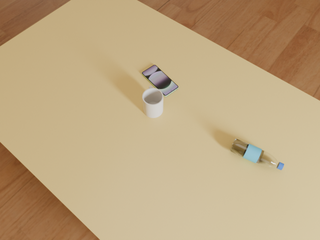bottle: (230, 138, 284, 170)
cup: (142, 86, 163, 118)
phone: (142, 65, 178, 97)
